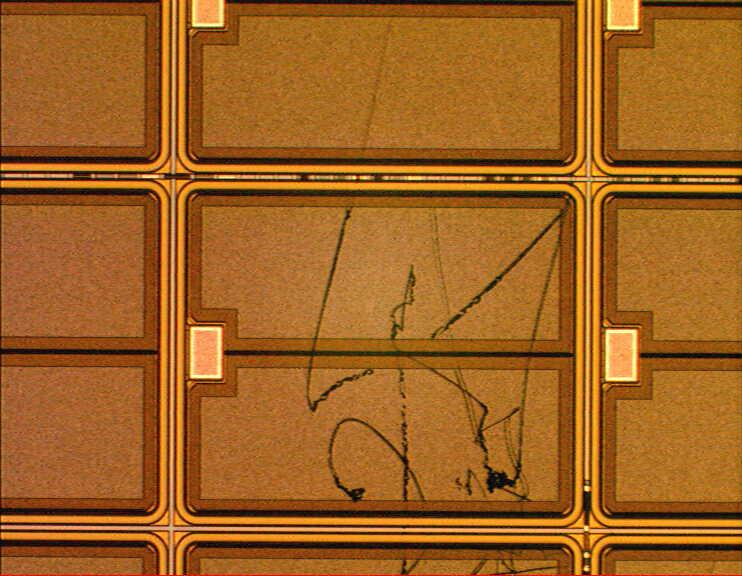SCRATCH: (299, 7, 585, 576)
